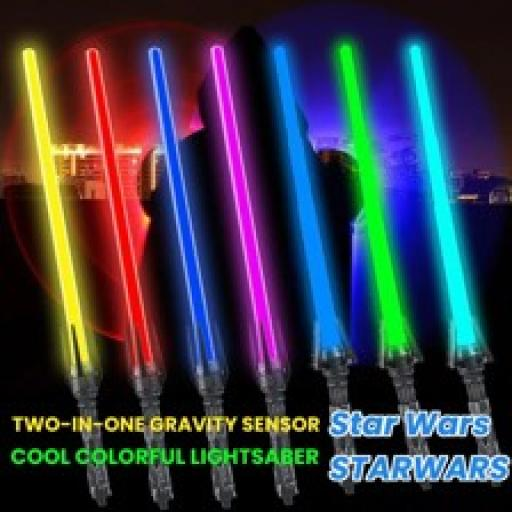lightsaber: (143, 46, 246, 512), (402, 46, 506, 472), (204, 36, 298, 502), (24, 46, 116, 503), (272, 39, 362, 501), (342, 53, 435, 487)
sith saber: (81, 46, 178, 512)
